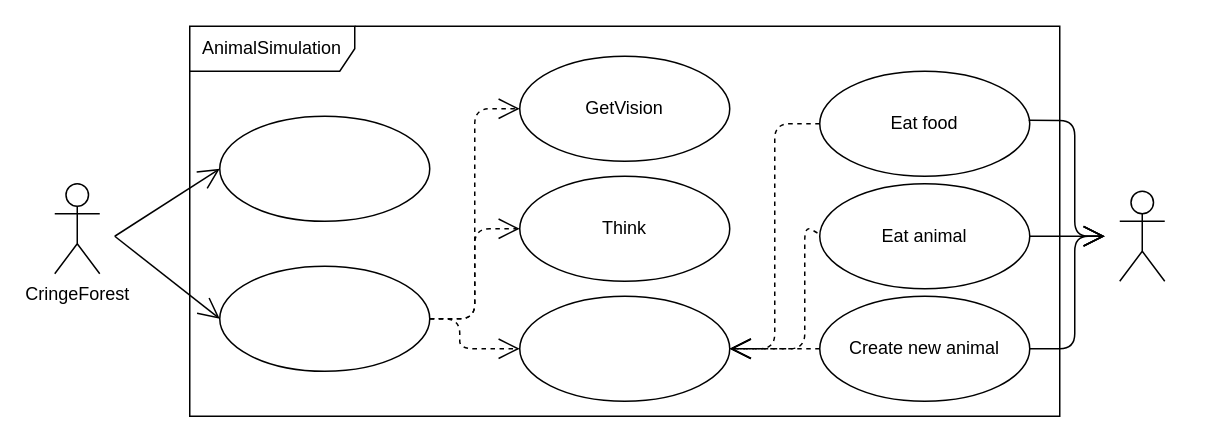
Image size: 1217x443. Some labels were removed from this diagram. Here are the shapes that lost their labels. From the top down, the centre of each, then its label:
(x=324, y=168): InitializeAnimals
(x=1141, y=235): MapHandler
(x=324, y=318): Update animals
(x=624, y=348): Move animals
